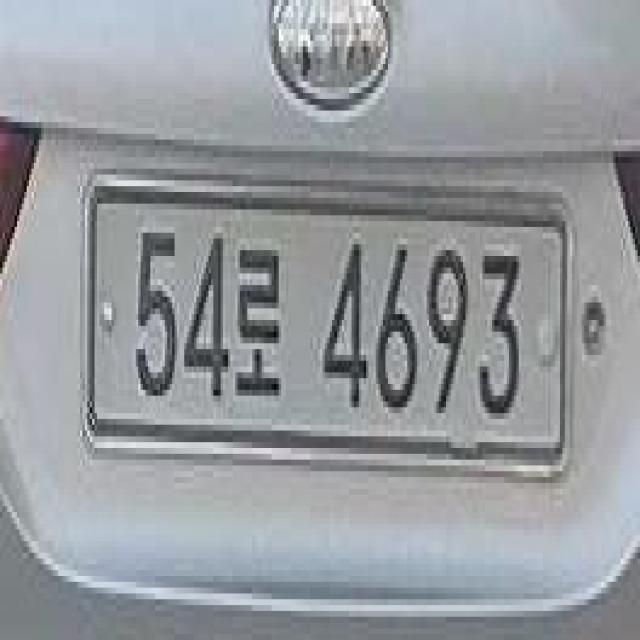3: (474, 234, 523, 424)
4: (317, 234, 371, 421), (180, 234, 233, 406)
5: (134, 221, 178, 404)
6: (371, 226, 422, 426)
9: (423, 241, 470, 415)
license_plate: (81, 168, 574, 494)
lo: (236, 236, 285, 407)
